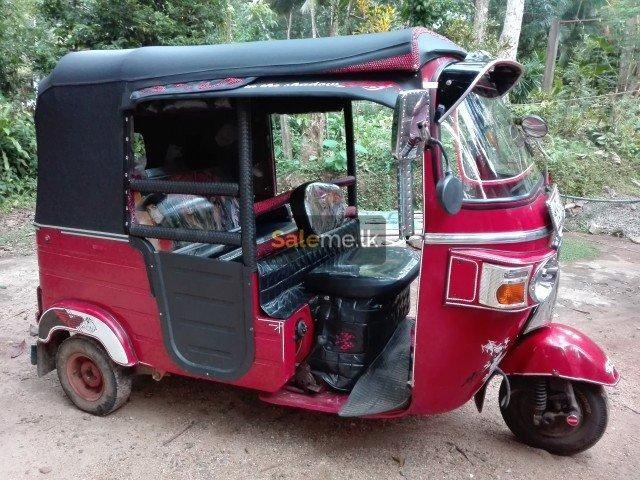threewheel: (31, 25, 621, 455)
